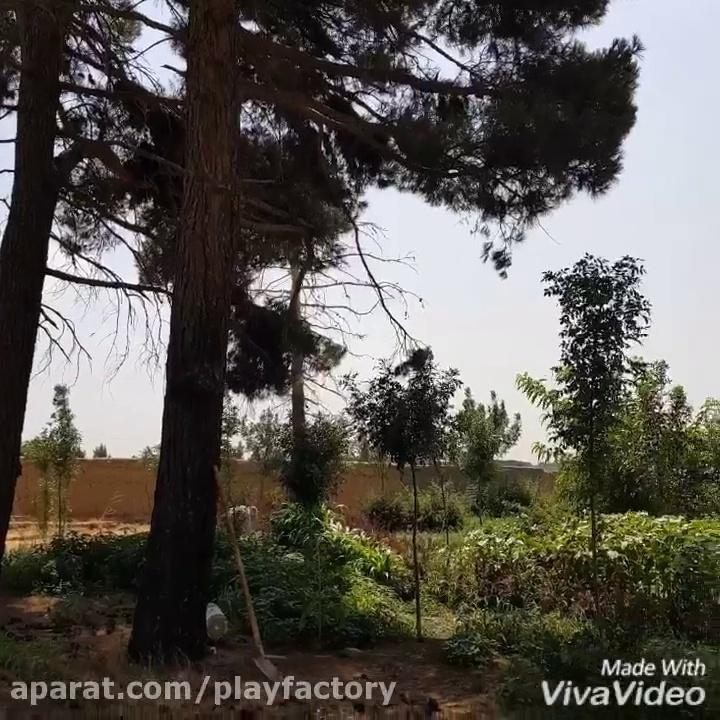drone: (356, 330, 368, 340)
